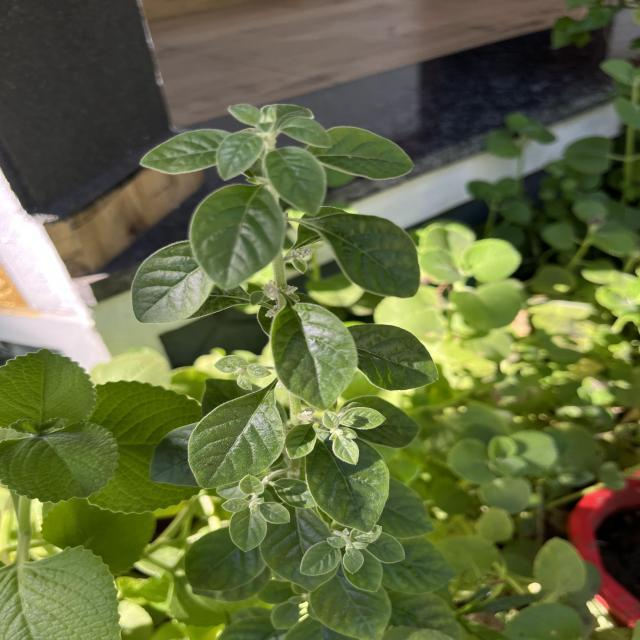Aerva lanata: (185, 386, 288, 492), (266, 300, 362, 413), (302, 434, 392, 536), (128, 238, 219, 326), (346, 320, 442, 393)
